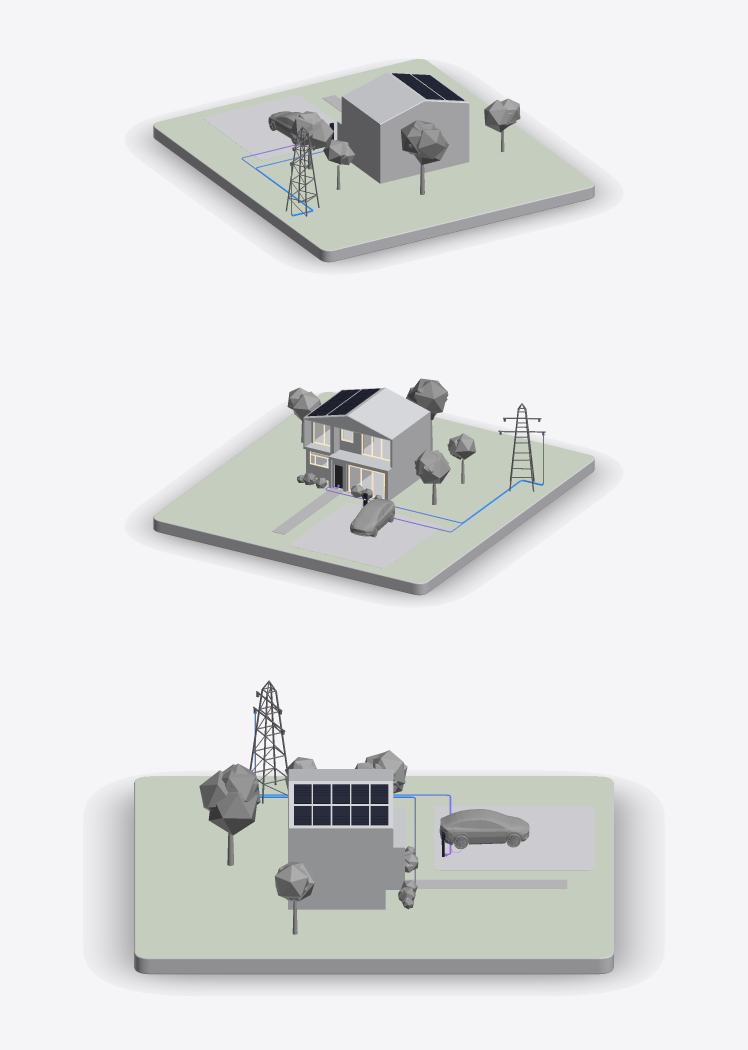
File: sett-scroll-probleem-avond.glb
3 views of the same model, one above another, from view 1: azimuth 30°, elevation 25°; view 2: azimuth 150°, elevation 25°; view 3: azimuth 270°, elevation 25° (orthographic). The views are drawn at different scales.
Visible parts, largest first — view 1: object 59, Muren_boven, contact_shadow, object 60, Muren_beneden, object 43, object 36, car, object 41, object 29; view 2: object 59, Muren_boven, object 60, contact_shadow, Muren_beneden, car, Pathway, object 41, object 27, object 36; view 3: object 59, contact_shadow, object 60, Muren_boven, Muren_beneden, car, Pathway, object 42, object 37, object 44, object 43, object 30.
Boxes of the visible parts, x1,y1,x2,y2 form: object 59: (153,59,594,262); Muren_boven: (341,72,469,152); contact_shadow: (148,80,599,264); object 60: (203,95,337,160); Muren_beneden: (337,120,469,183); object 43: (416,128,445,159); object 36: (484,100,513,132); car: (268,111,301,144); object 41: (400,120,425,154); object 29: (307,119,333,149); object 59: (153,392,594,595); Muren_boven: (303,387,430,467); object 60: (290,503,441,568); contact_shadow: (148,413,599,597); Muren_beneden: (303,429,430,500); car: (350,499,394,537); Pathway: (272,488,343,534); object 41: (413,380,447,413); object 27: (415,452,450,483); object 36: (293,391,320,421); object 59: (134,776,613,974); contact_shadow: (113,793,634,983); object 60: (434,806,594,870); Muren_boven: (288,769,393,867); Muren_beneden: (288,808,404,909); car: (439,809,529,848); Pathway: (405,879,567,888); object 42: (208,791,257,835); object 37: (274,864,308,898); object 44: (221,764,260,804); object 43: (199,770,228,811); object 30: (373,750,405,785).
Bounding box in the file's own units: 3693 × 734 × 3693.
27 materials, 1 textured.
